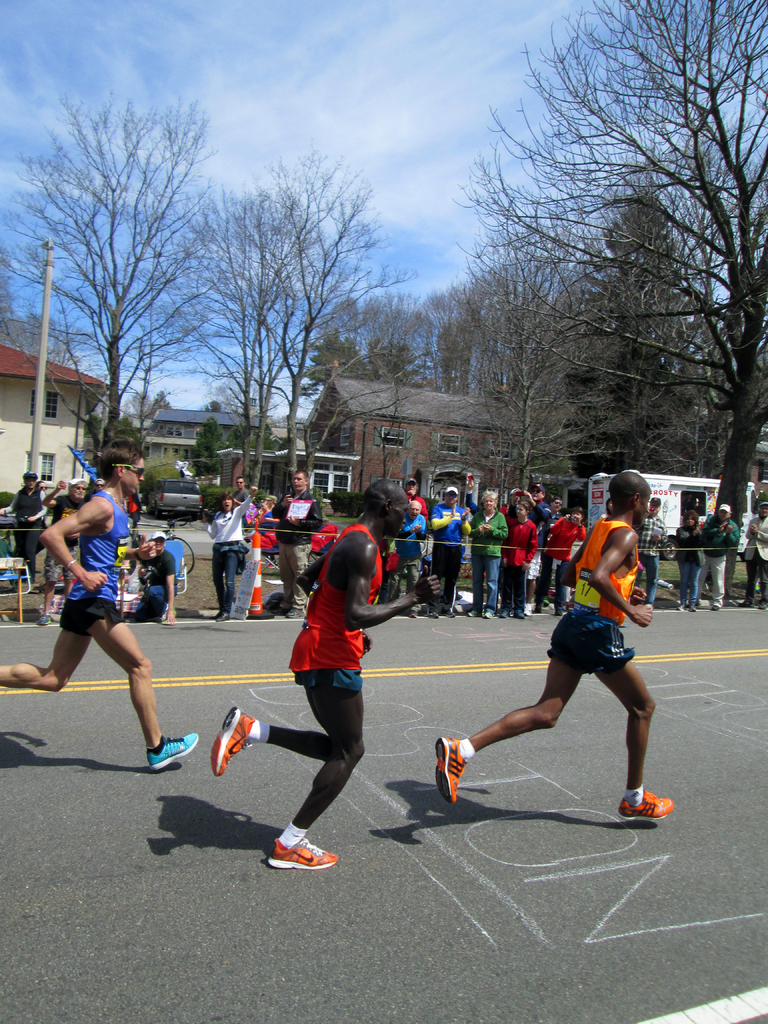Person: (0, 473, 768, 611)
